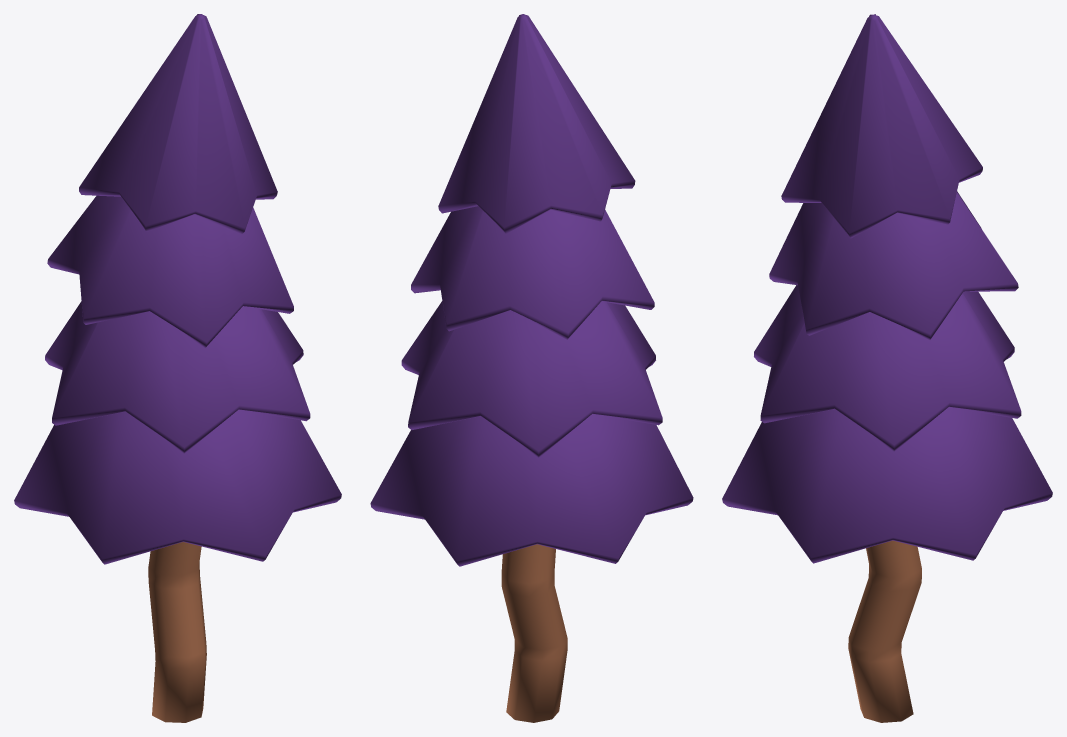
The model's file is TreeCandy.fbx.
The picture shows the model from 3 angles, left to right: view 1: azimuth 30°, elevation 25°; view 2: azimuth 150°, elevation 25°; view 3: azimuth 270°, elevation 25°; orthographic projection. The views are drawn at different scales.
Parts seen in each view (by area): view 1: TreeCandy; view 2: TreeCandy; view 3: TreeCandy.
Part boxes in pixels (<box>): TreeCandy: <box>14,14,341,722</box>; TreeCandy: <box>370,14,693,722</box>; TreeCandy: <box>722,14,1052,722</box>.
Bounding box in the file's own units: 1.38 × 3.58 × 1.52.
